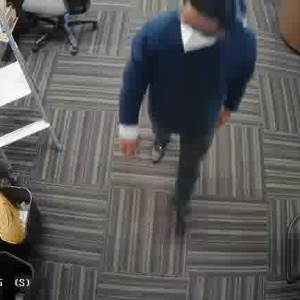person: (121, 0, 251, 232)
